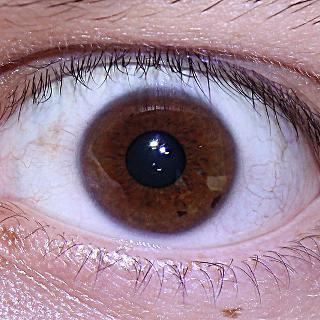pupil: (124, 130, 185, 190)
